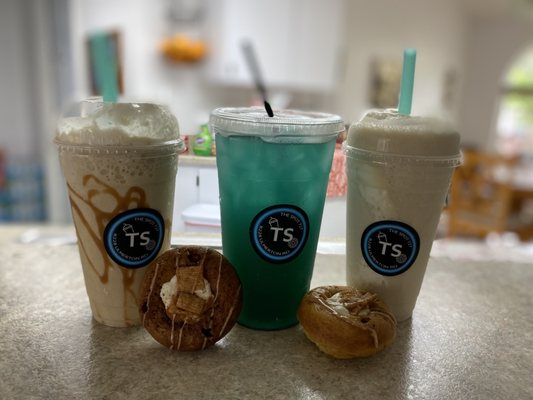pizza: (210, 104, 346, 332), (53, 98, 183, 330)
